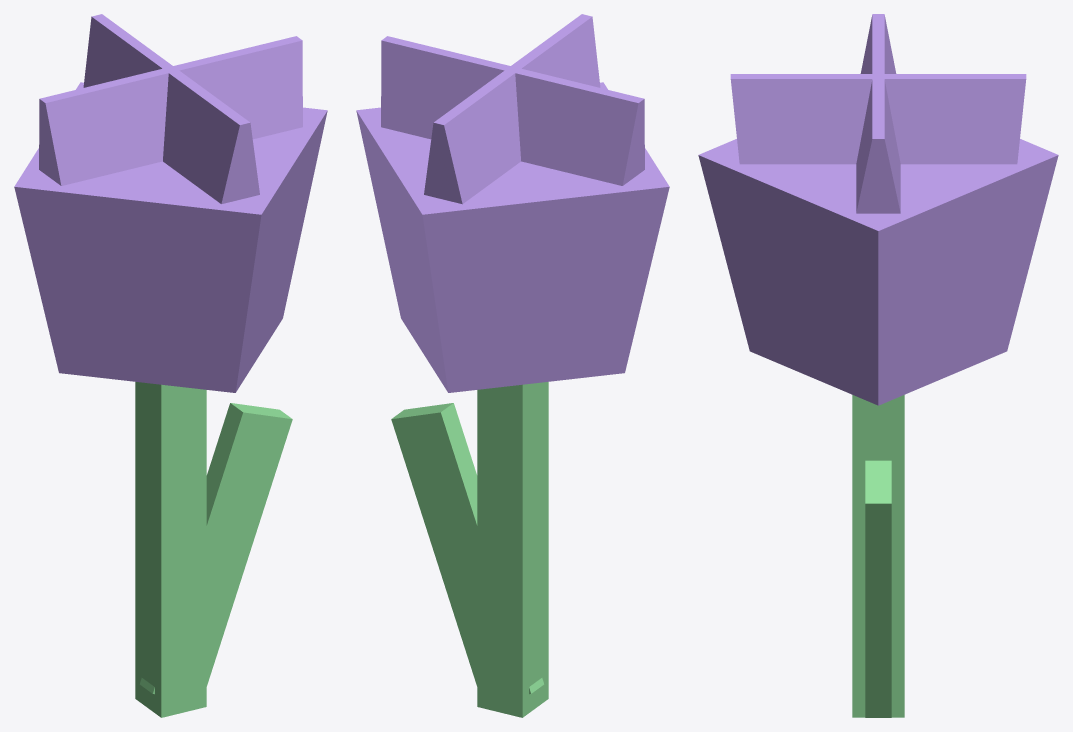
Rendered from tulip_small.glb.
3 views of the same model, side by side, from view 1: azimuth 30°, elevation 25°; view 2: azimuth 150°, elevation 25°; view 3: azimuth 270°, elevation 25° (orthographic).
Visible parts, largest first — view 1: tulip_small; view 2: tulip_small; view 3: tulip_small.
Boxes of the visible parts, bbox=[...] form: tulip_small: bbox=[14, 14, 327, 717]; tulip_small: bbox=[356, 14, 669, 717]; tulip_small: bbox=[698, 14, 1058, 717].
Size of the model in its own units: 0.8316 by 1.6 by 0.8316.
